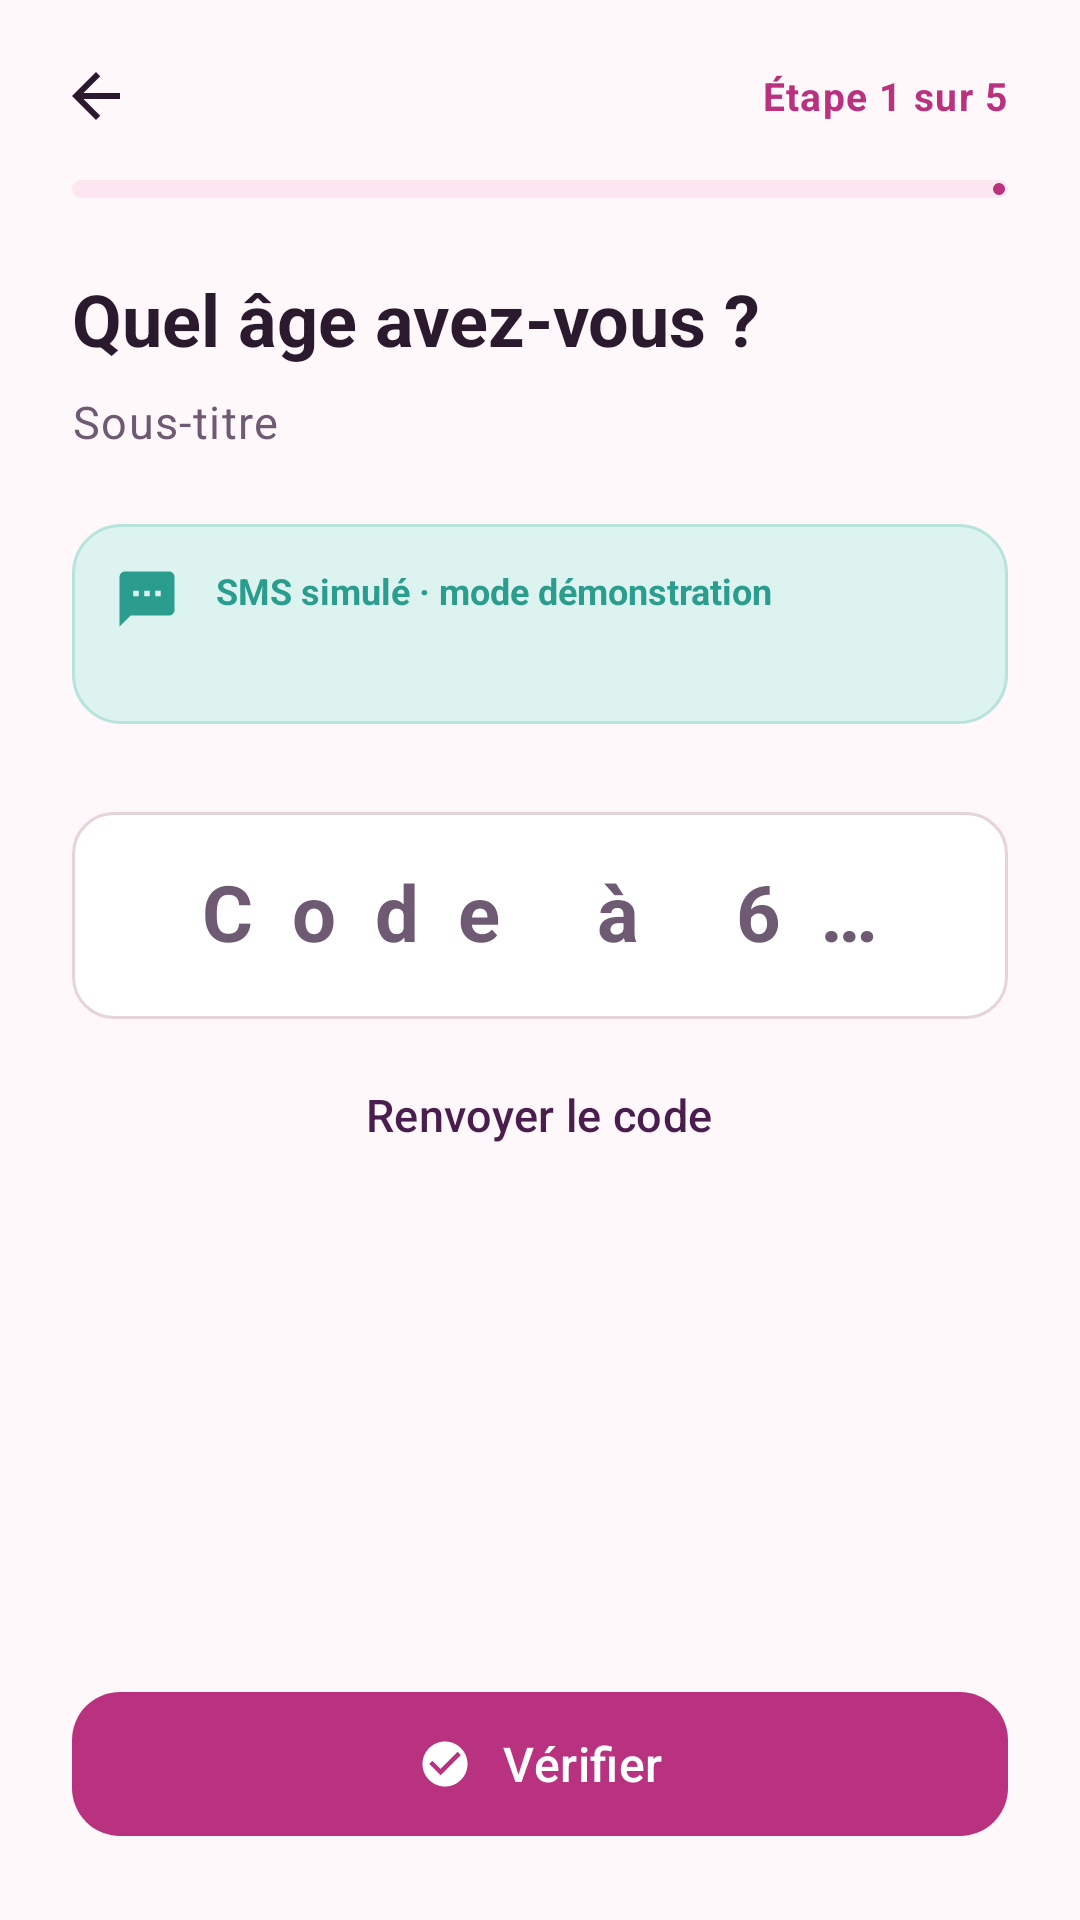

Named icons in this screenshot (1080×1920) and their centers, (x=x, y=y):
Retour: (x=96, y=96)
